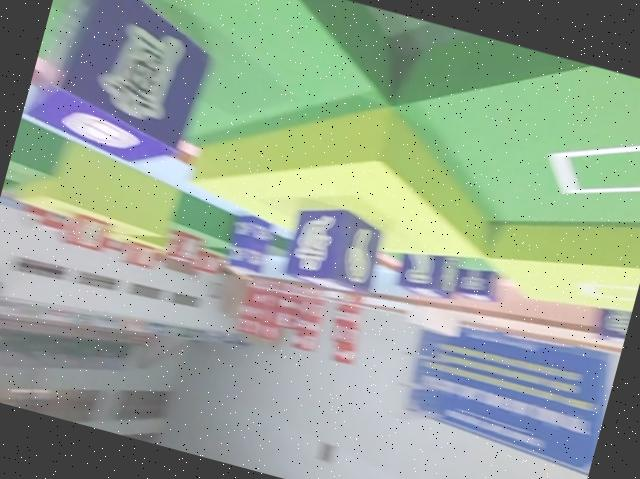R2 Fake Blue: (19, 0, 228, 177), (284, 197, 392, 299), (395, 243, 464, 305)
